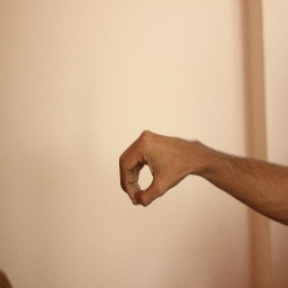O: (116, 121, 194, 208)
